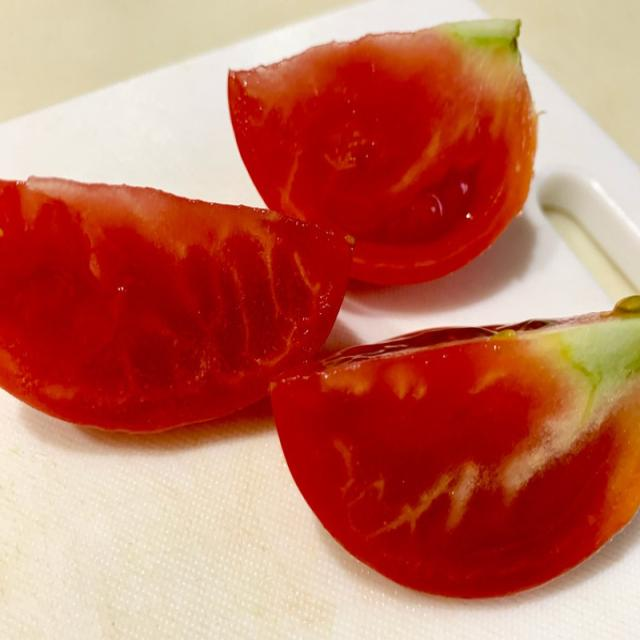Tomato: (264, 292, 640, 602), (0, 173, 365, 441), (222, 12, 539, 296)
